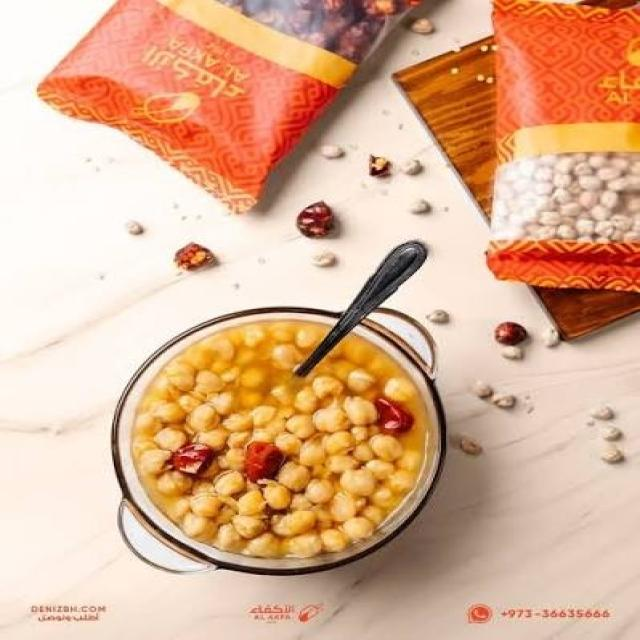Nakhi: (128, 320, 436, 566)
